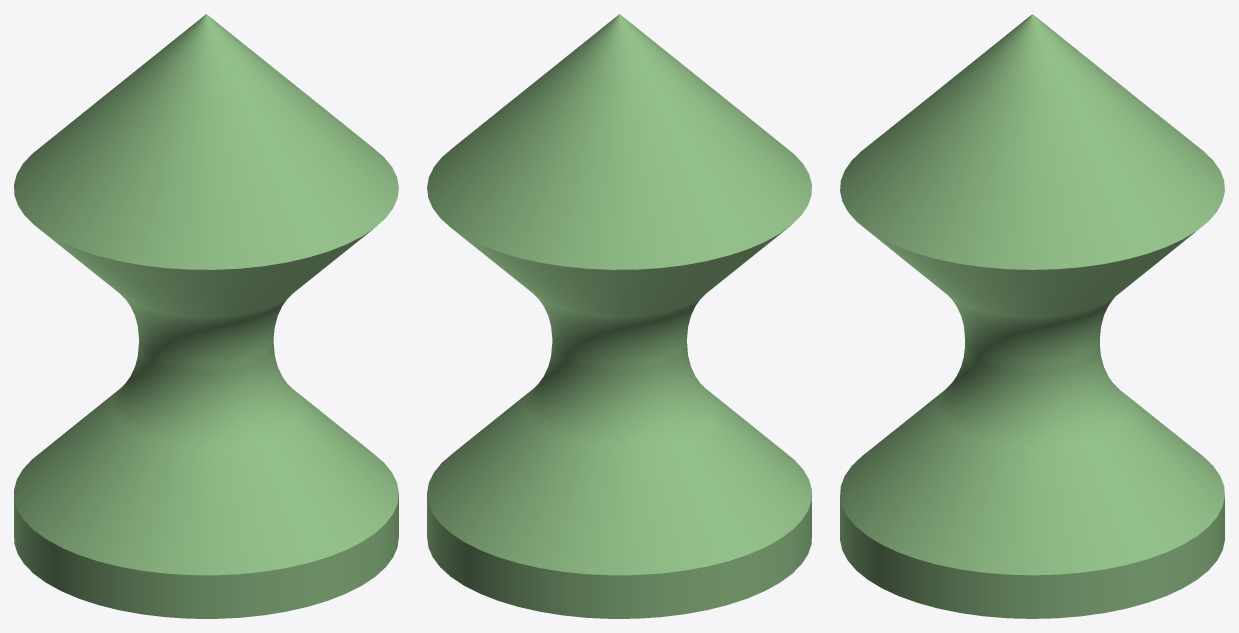
File: Fate Game Piece V3 Olivine.glb
3 renders of one model, left to right at view 1: azimuth 30°, elevation 25°; view 2: azimuth 150°, elevation 25°; view 3: azimuth 270°, elevation 25°, orthographic.
Visible parts, largest first — view 1: Solid1; view 2: Solid1; view 3: Solid1.
Part boxes in pixels (bbox=[...]): Solid1: bbox=[14, 14, 398, 618]; Solid1: bbox=[427, 14, 811, 618]; Solid1: bbox=[840, 14, 1224, 618].
Bounding box in the file's own units: 0.0254 × 0.0381 × 0.0254.
